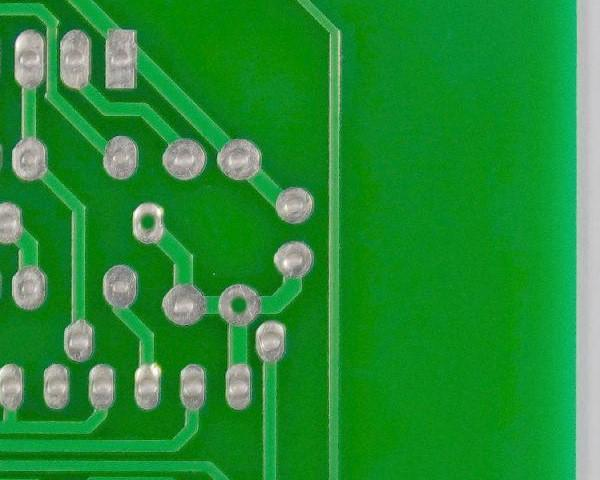missing hole: (125, 199, 171, 251), (215, 282, 265, 329)
